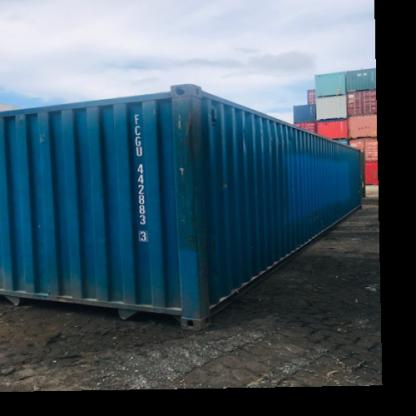Damage: (169, 89, 207, 256), (239, 124, 293, 160), (219, 175, 240, 197)
